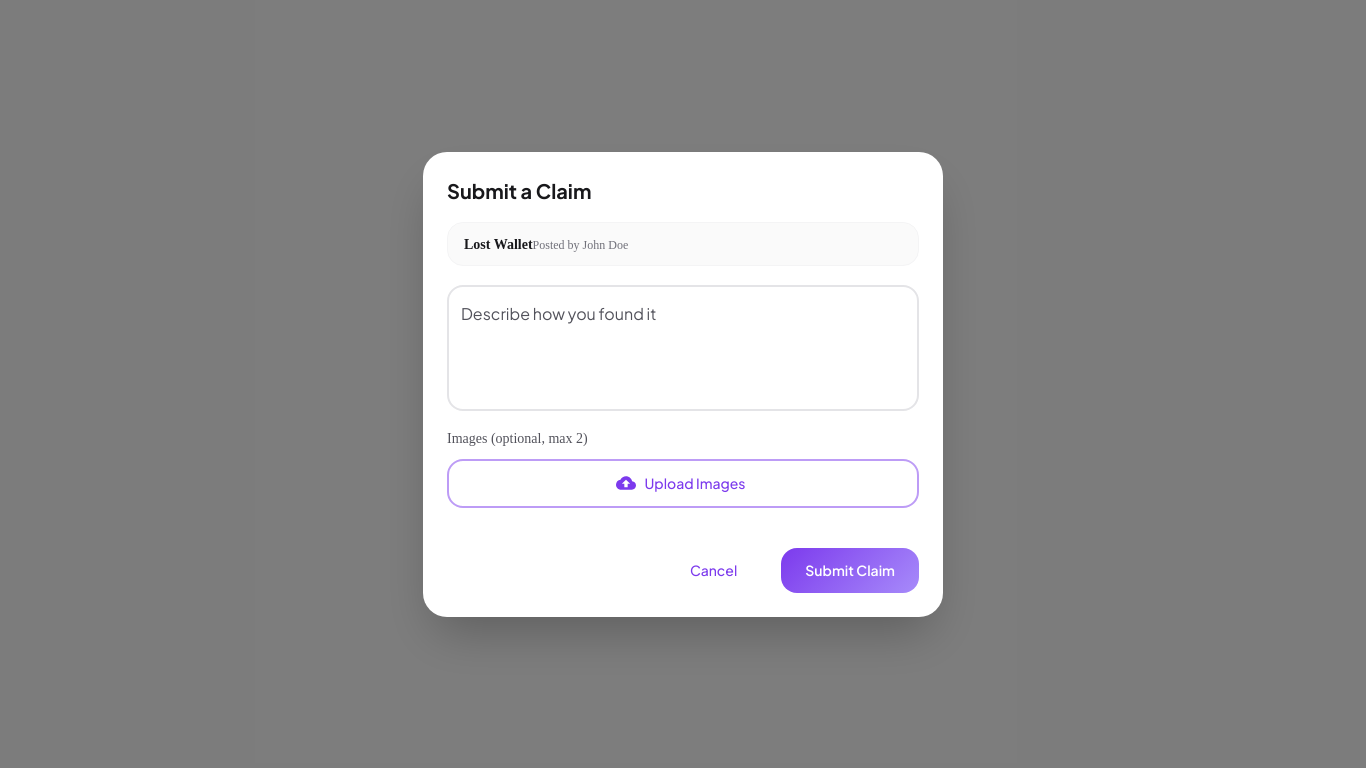
Test: ClaimSubmitDialog › shows "cannot claim own item" alert on 403
In the text box labelled "Describe how you found it": (683, 348) [461,302,905,394], type "I found this wallet near the park bench area"
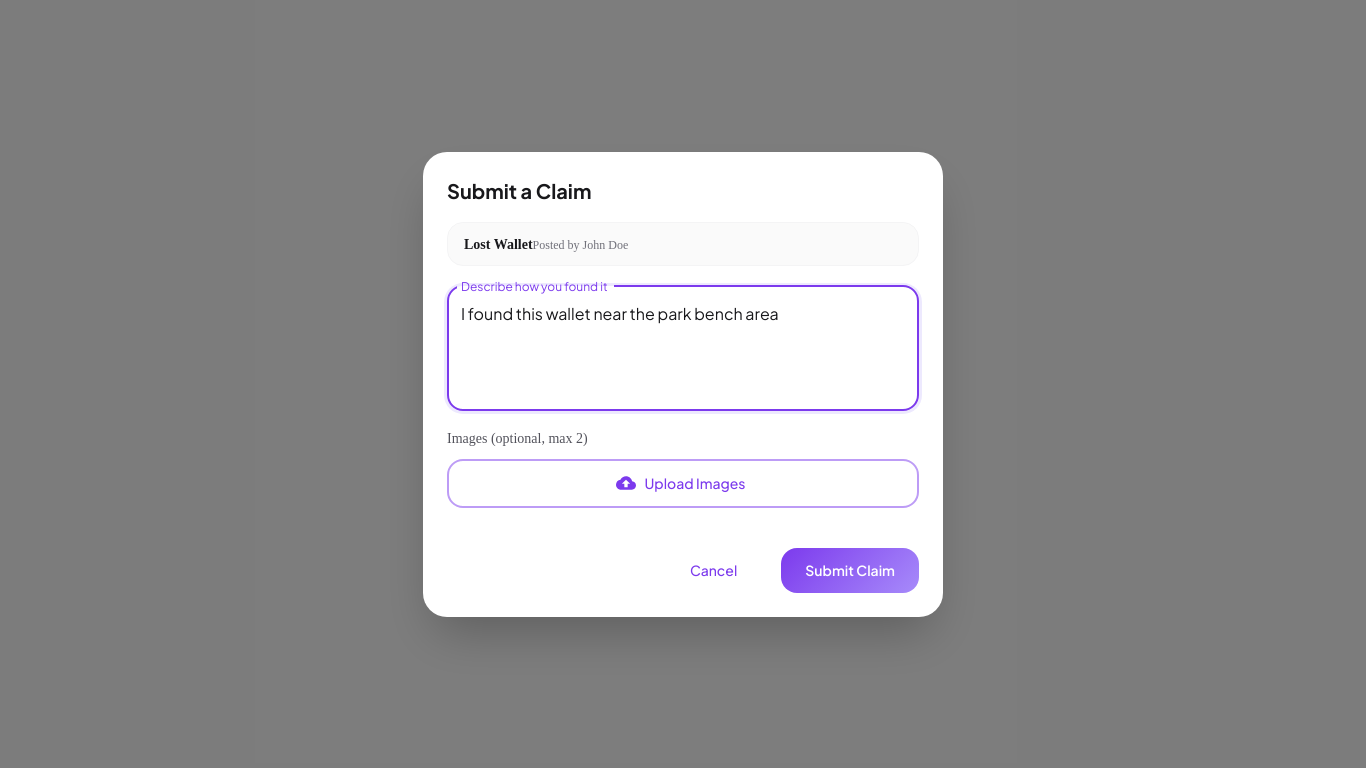
Click the button "Submit Claim": (850, 570) [781,548,919,592]
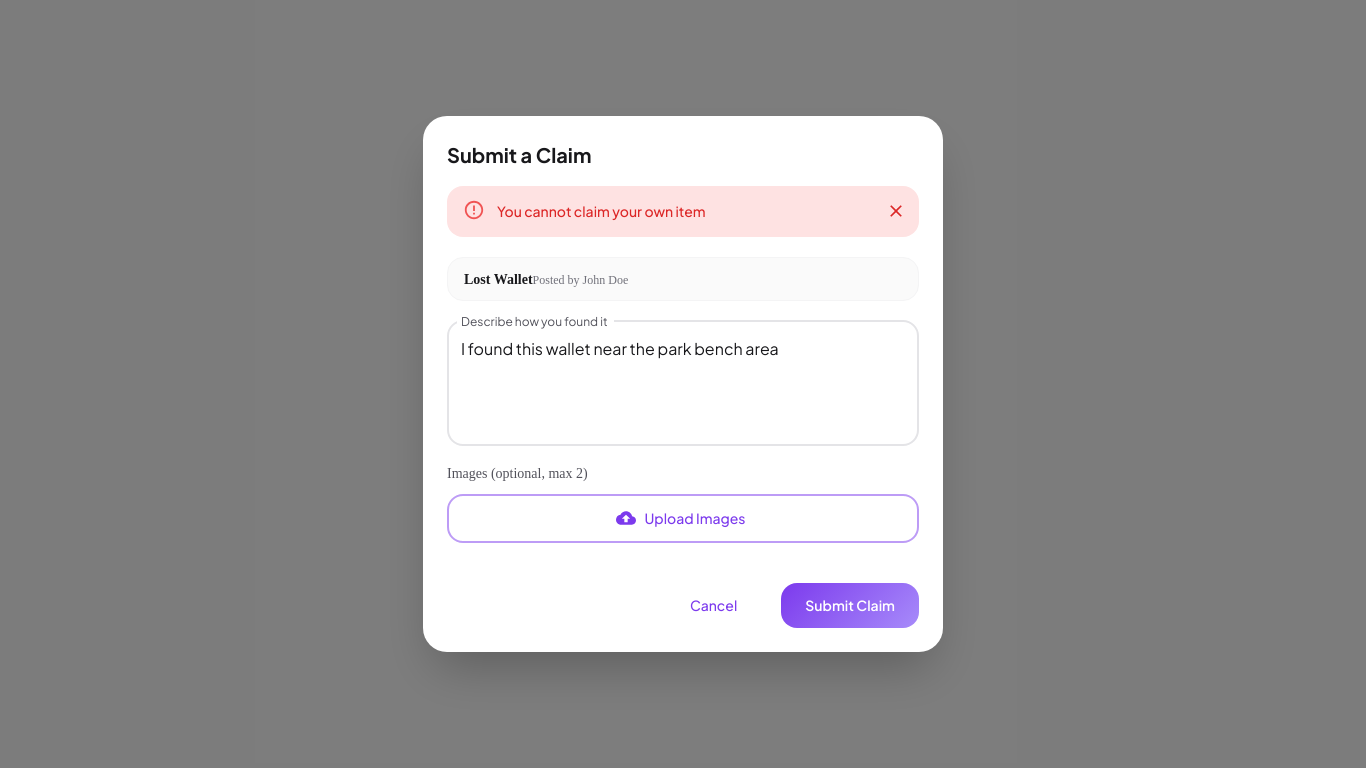
Expected: the text "You cannot claim your own item" is shown, [497,202,706,220]
